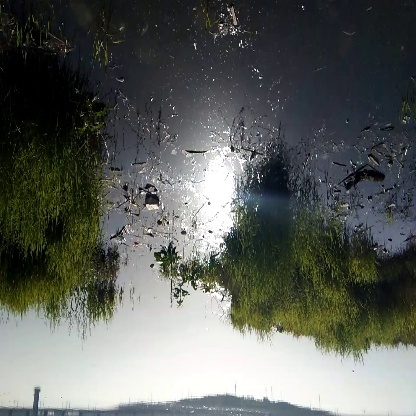plastic-garbage: (144, 187, 166, 214)
